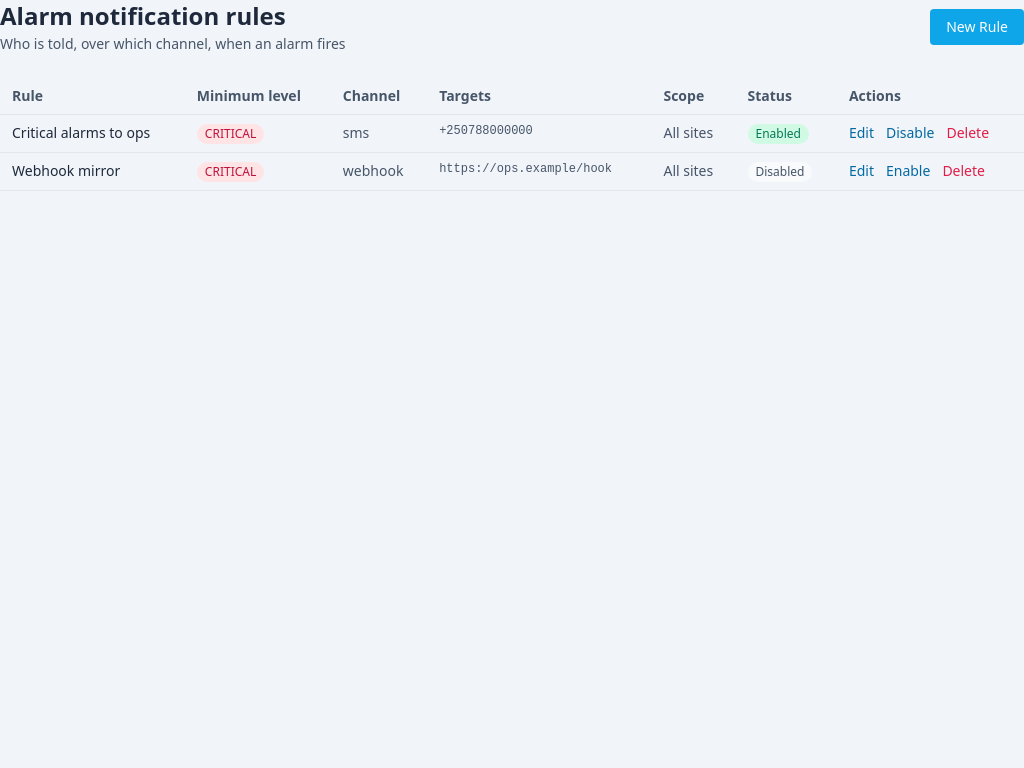
Test: NotificationRulesPage › surfaces the server error verbatim
Expected: the text "Critical alarms to ops" is shown, [0, 114, 185, 152]
Click the button "New Rule".
click(977, 27)  # box [930, 9, 1023, 45]
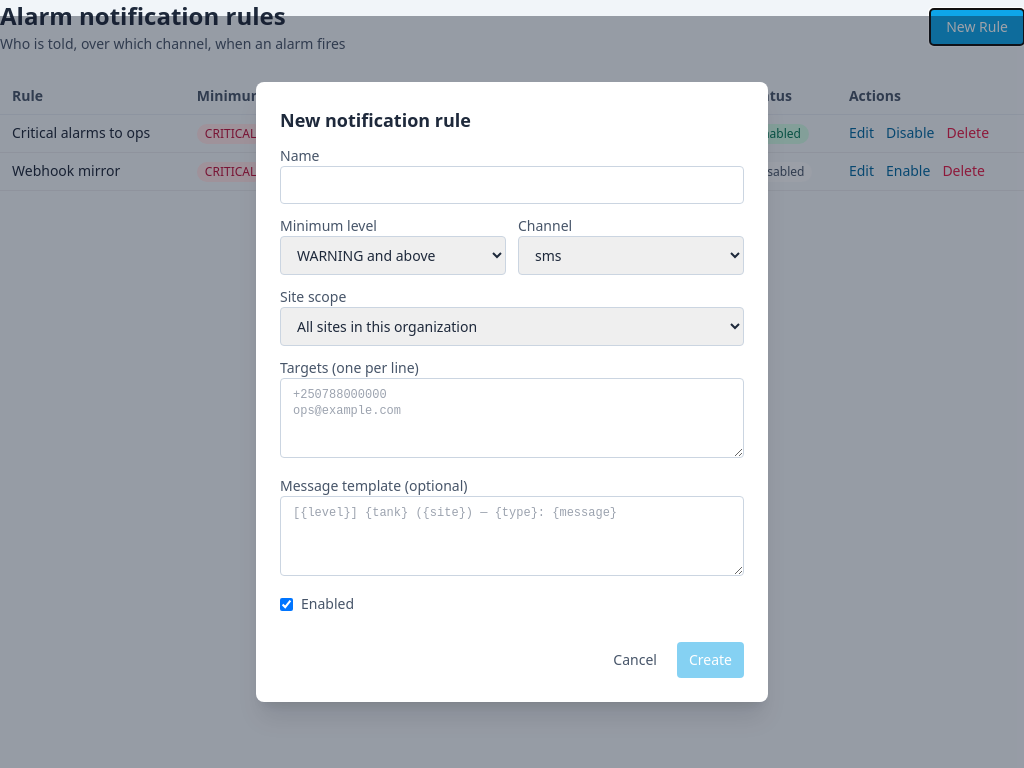
Type "Rule" into the field labelled "Name".
click(512, 185); type("Rule")  # box [280, 166, 744, 204]
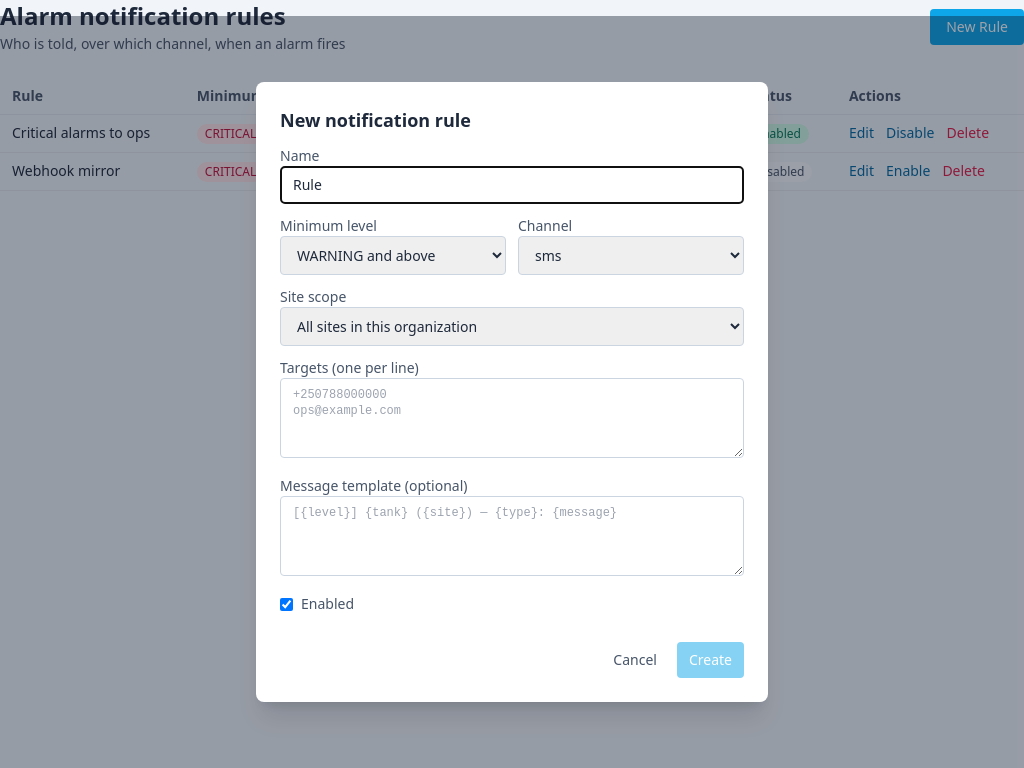
Type "+250788000000" into the text box labelled "Targets (one per line)".
click(512, 418); type("+250788000000")  # box [280, 378, 744, 458]
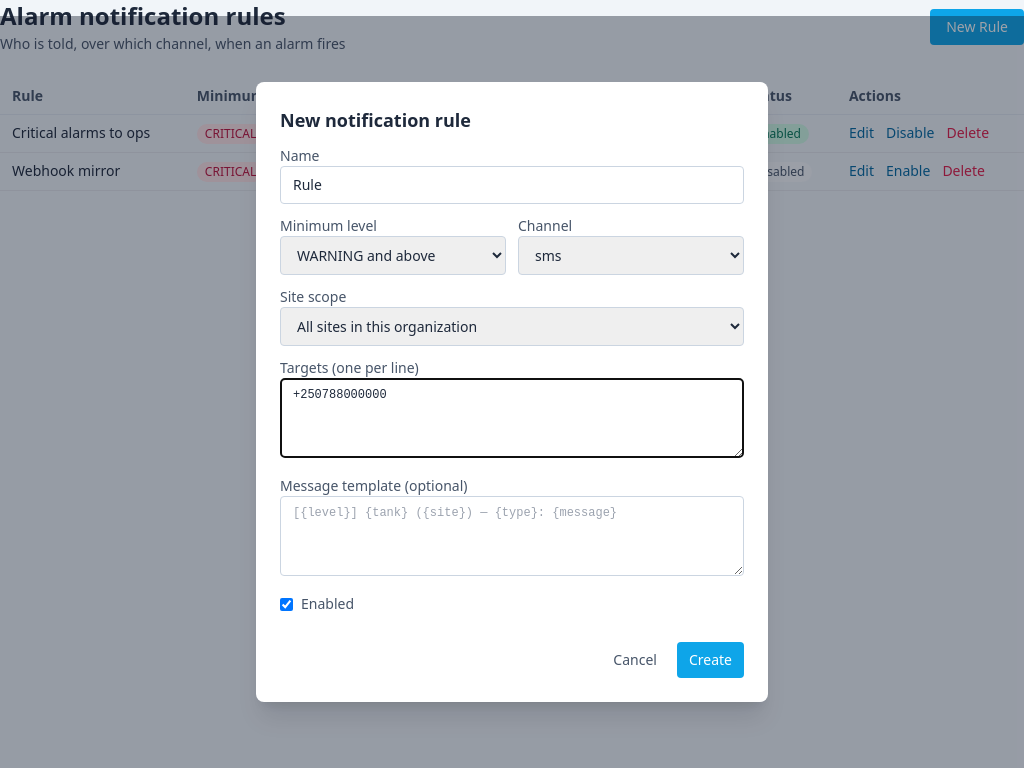
Click the button "Create".
click(710, 660)  # box [677, 642, 744, 678]
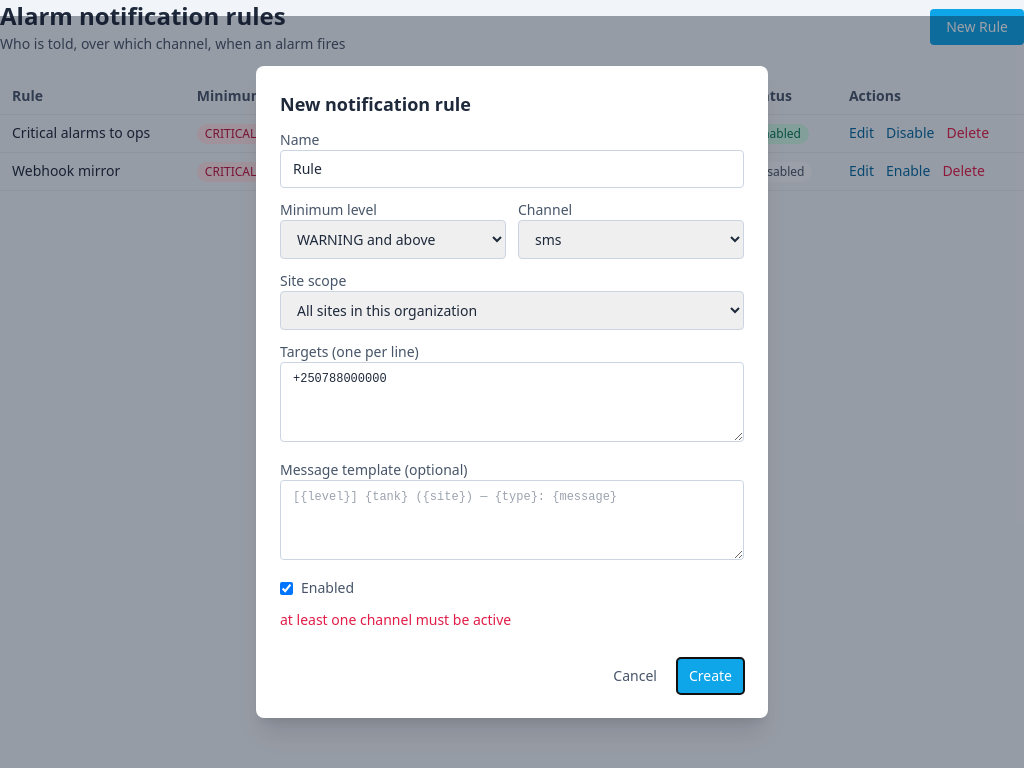
Result: the text "at least one channel must be active" is shown at [280, 610, 511, 629]
